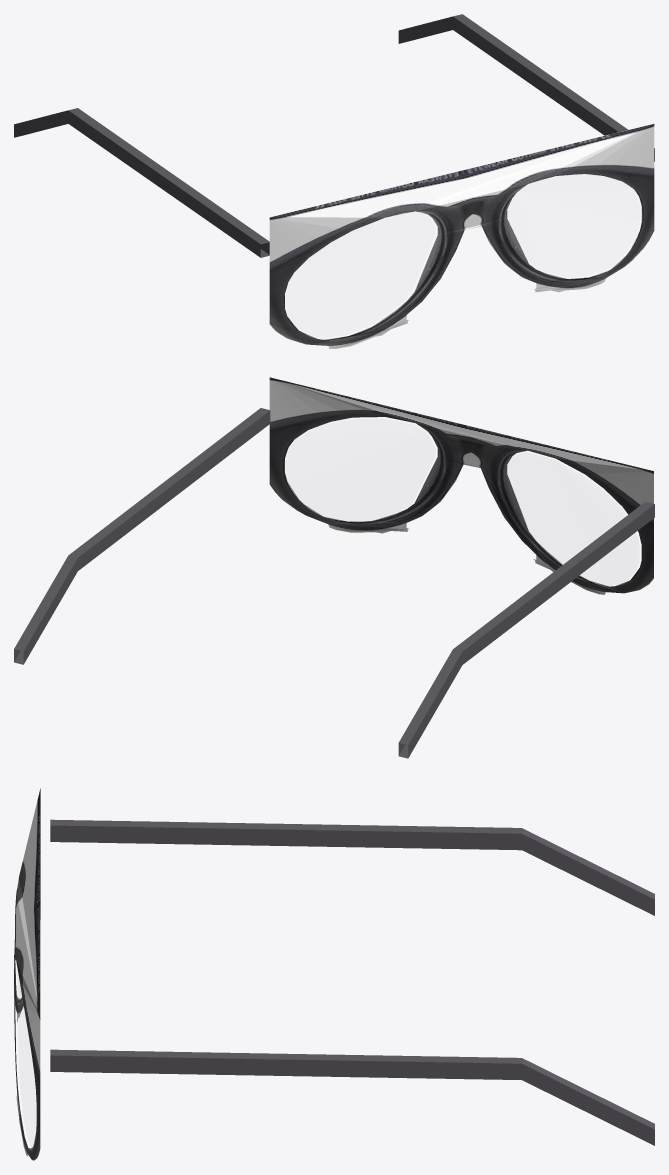
The model's file is gothamstyle-223_matte-black.glb.
3 renders of one model, top to bottom at view 1: azimuth 30°, elevation 25°; view 2: azimuth 150°, elevation 25°; view 3: azimuth 270°, elevation 25°, orthographic. The views are drawn at different scales.
Visible parts, largest first — view 1: frame_front, temple_viewer_left, temple_viewer_right; view 2: frame_front, temple_viewer_right, temple_viewer_left; view 3: temple_viewer_left, temple_viewer_right, frame_front.
Part boxes in pixels (x1=…): frame_front: x1=269, y1=123, x2=654, y2=348; temple_viewer_left: x1=14, y1=108, x2=269, y2=257; temple_viewer_right: x1=398, y1=14, x2=654, y2=161; frame_front: x1=269, y1=377, x2=653, y2=594; temple_viewer_right: x1=14, y1=408, x2=270, y2=664; temple_viewer_left: x1=398, y1=502, x2=654, y2=758; temple_viewer_left: x1=50, y1=819, x2=654, y2=915; temple_viewer_right: x1=50, y1=1049, x2=654, y2=1145; frame_front: x1=14, y1=788, x2=40, y2=1160.
Bounding box in the file's own units: 0.1227 × 0.0423 × 0.141.
3 materials, 2 textured.
